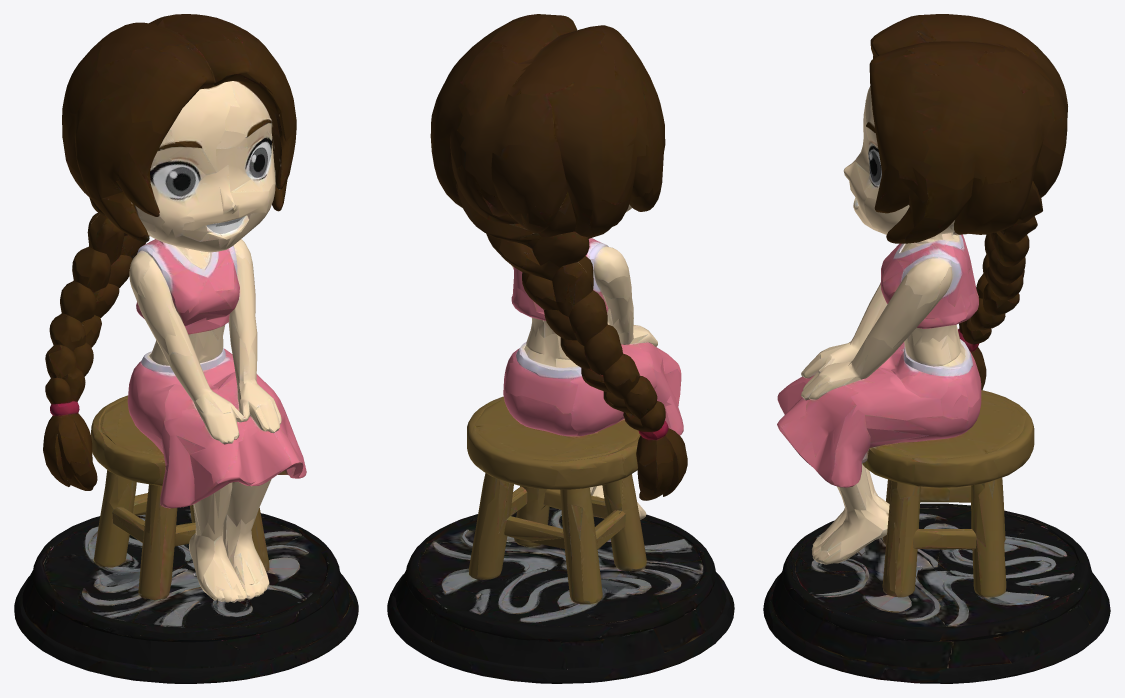
File: tylee2.glb
3 views of the same model, side by side, from view 1: azimuth 30°, elevation 25°; view 2: azimuth 150°, elevation 25°; view 3: azimuth 270°, elevation 25° (orthographic).
Parts seen in each view (by area): view 1: Mesh_0; view 2: Mesh_0; view 3: Mesh_0.
Part boxes in pixels (left/top/right/bottom): Mesh_0: left=14, top=14, right=358, bottom=683; Mesh_0: left=387, top=14, right=734, bottom=683; Mesh_0: left=763, top=14, right=1110, bottom=683.
Size of the model in its own units: 1.03 by 1.9 by 1.03.
1 material, 1 textured.
